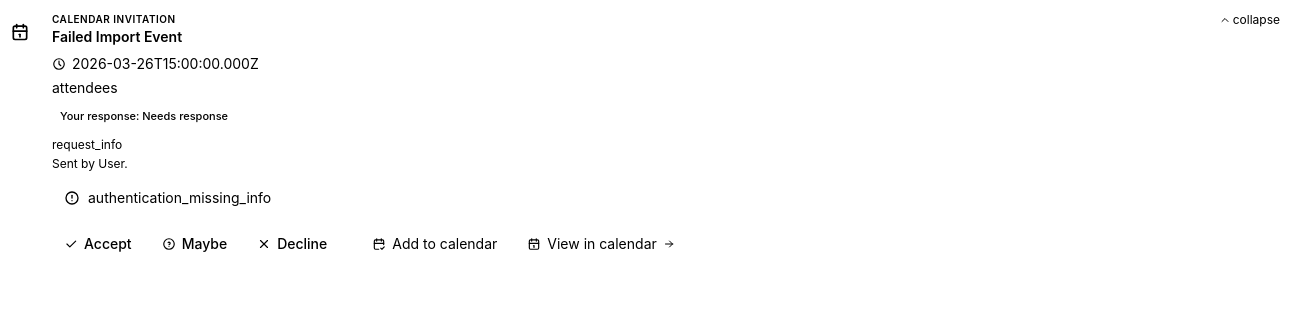
Test case: CalendarInvitationBanner › keeps the banner visible when an import action fails
expect the heading "Failed Import Event" is shown: met, box [52,28,182,45]
Click the button "Add to calendar" at (435, 244), box [360,226,509,262]
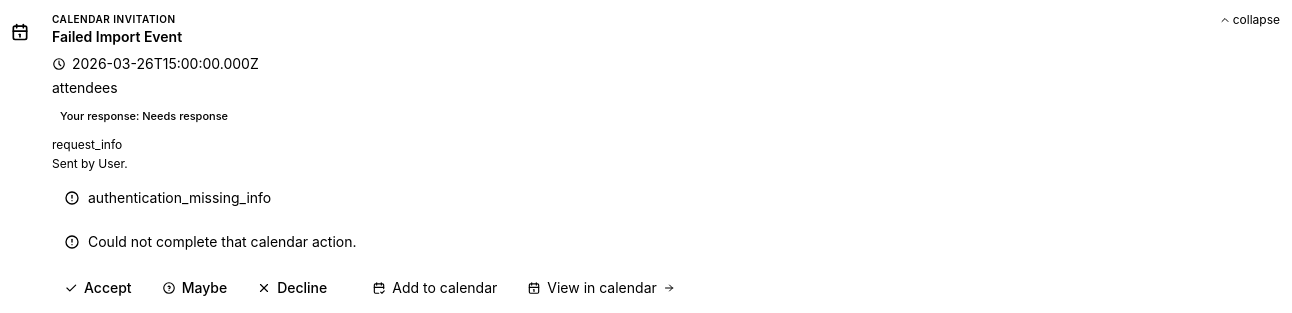
expect the heading "Failed Import Event" is shown: met, box [52,28,182,45]
expect the text "Could not complete that calendar action." is shown: met, box [88,233,356,250]
